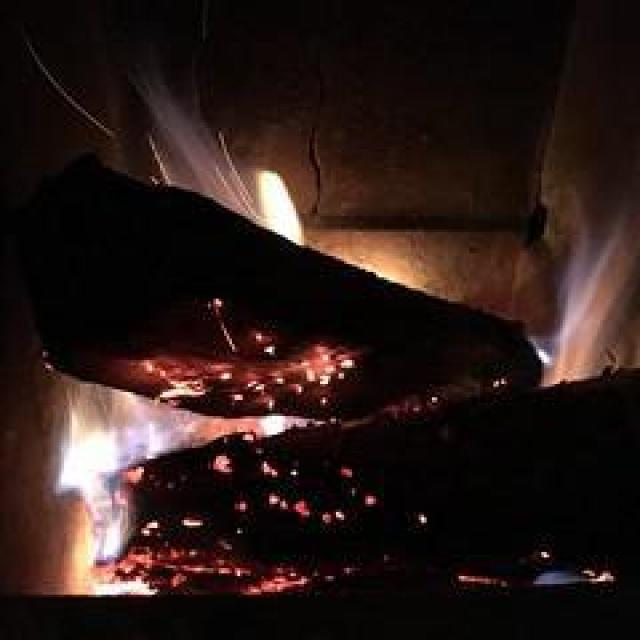fire: (55, 156, 633, 601)
